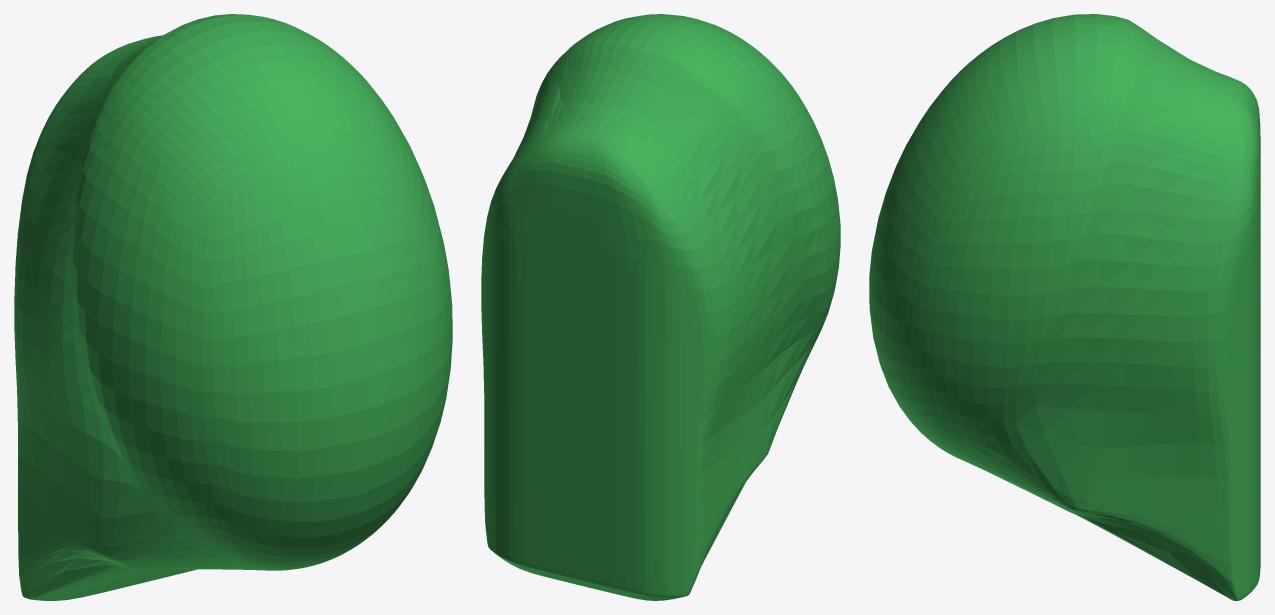
The model's file is th_distal_bt_sp.obj.
The picture shows the model from 3 angles, left to right: view 1: azimuth 30°, elevation 25°; view 2: azimuth 150°, elevation 25°; view 3: azimuth 270°, elevation 25°; orthographic projection. The views are drawn at different scales.
Parts seen in each view (by area): view 1: th_distal_bt_sp; view 2: th_distal_bt_sp; view 3: th_distal_bt_sp.
Boxes of the visible parts, x1=… form: th_distal_bt_sp: x1=14, y1=14, x2=452, y2=600; th_distal_bt_sp: x1=481, y1=14, x2=840, y2=600; th_distal_bt_sp: x1=869, y1=14, x2=1260, y2=600.
Bounding box in the file's own units: 19.97 × 34.7 × 22.96.
